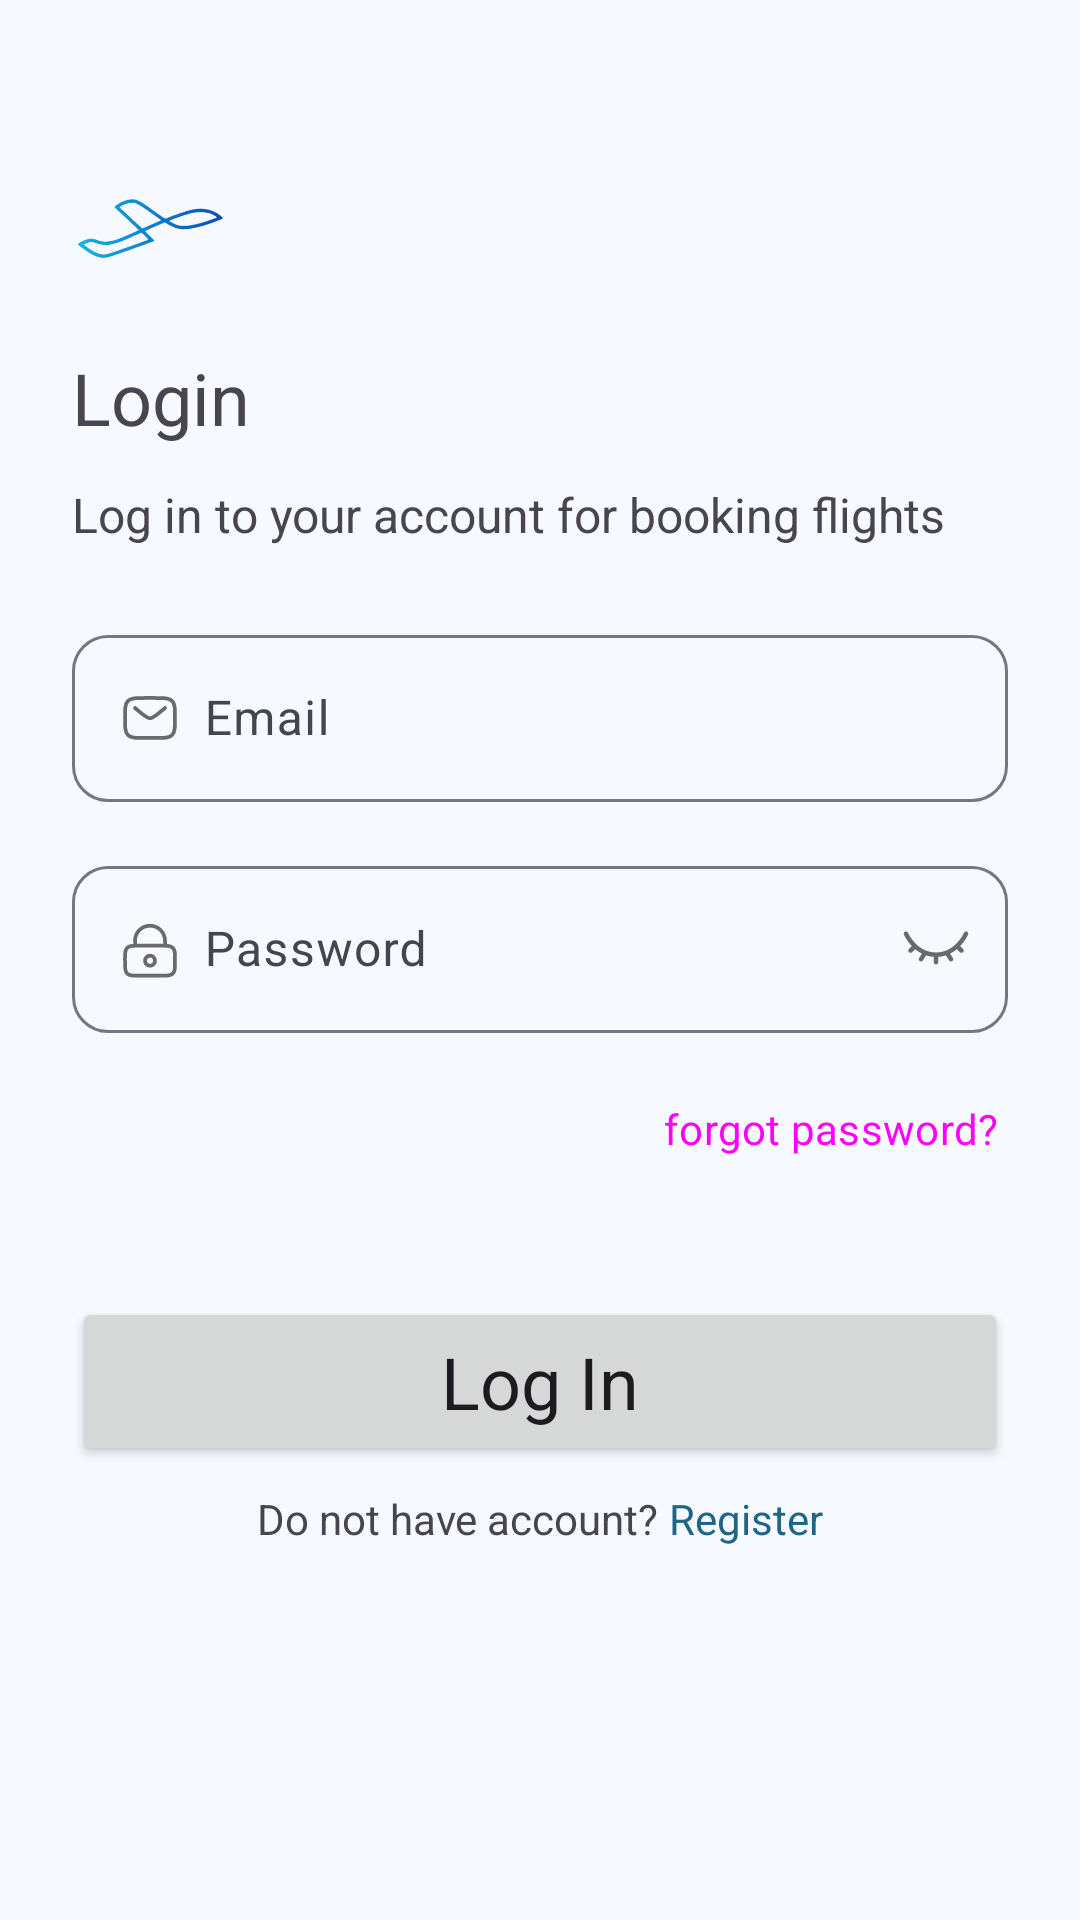

Where to tap for icons on this 1080px x 1920px app screen, as (x,y):
eye closed: (936,948)
